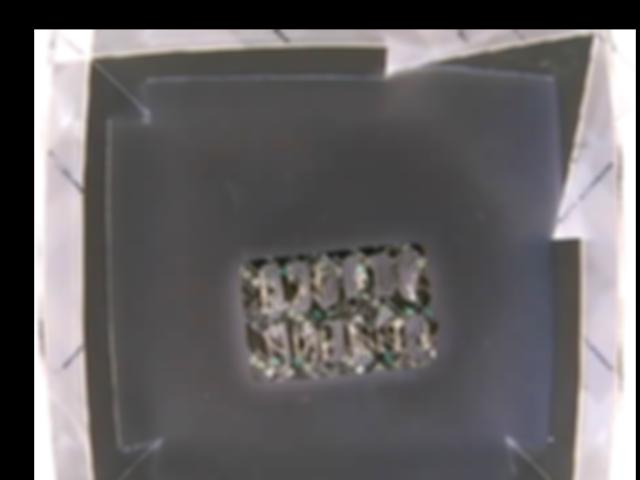Medicine: (239, 241, 434, 384)
